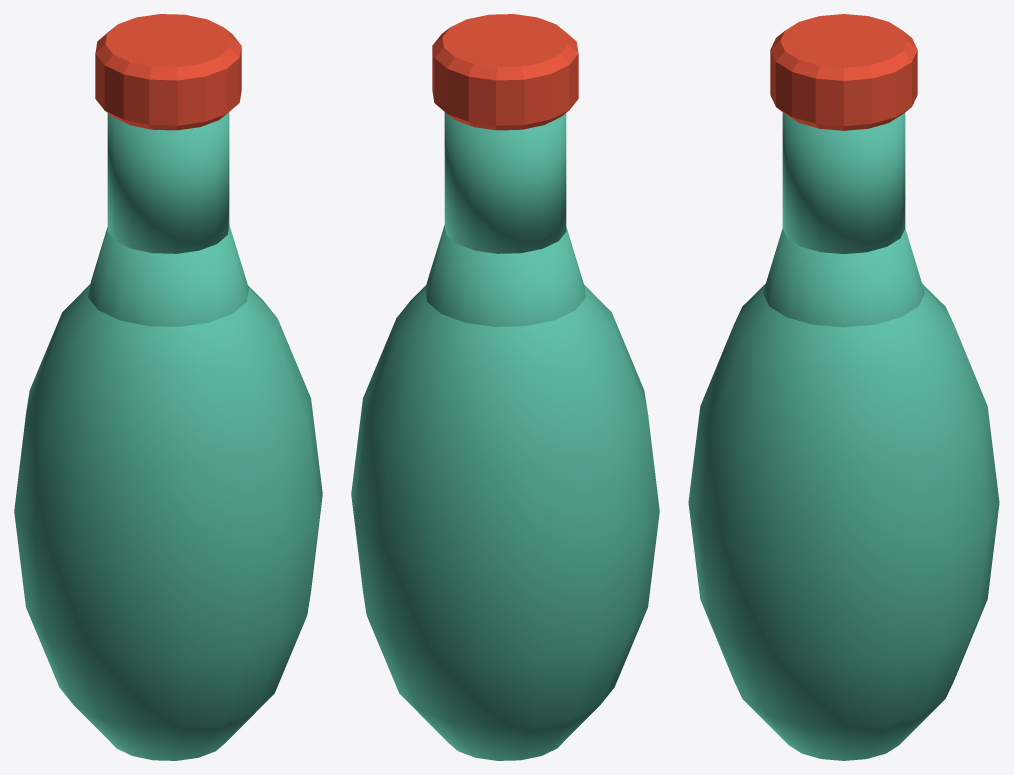
The model's file is Bottle.glb.
3 views of the same model, side by side, from view 1: azimuth 30°, elevation 25°; view 2: azimuth 150°, elevation 25°; view 3: azimuth 270°, elevation 25° (orthographic).
Visible parts, largest first — view 1: Bottle; view 2: Bottle; view 3: Bottle.
Part boxes in pixels (<box>): Bottle: <box>14,14,322,760</box>; Bottle: <box>351,14,659,760</box>; Bottle: <box>688,14,999,760</box>.
Bounding box in the file's own units: 0.247 × 0.6256 × 0.247.
